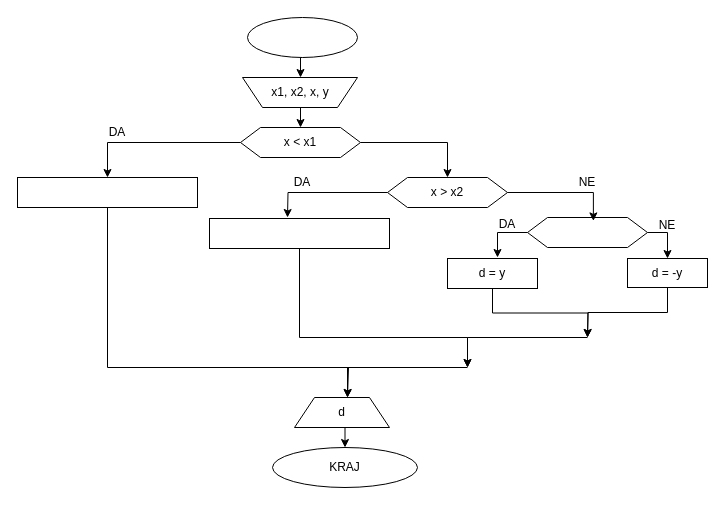
Image size: 725x505. Some labels were removed from this diagram. The centre of each missing label's shape, as x and y in pixels:
"d = sqrt((x - x1) * (x - x1) + y *y)" goes at point 107,192.
"d = sqrt((x - x2) * (x - x2) + y * y)" goes at point 299,233.
"Pocetak" goes at point 302,37.
"y > 0" goes at point 587,232.
